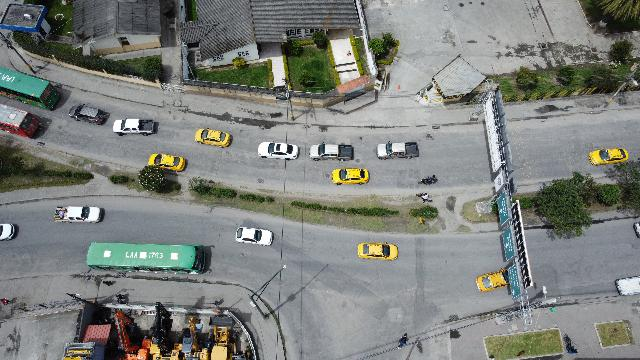Vehiculo: (1, 104, 40, 138), (68, 103, 110, 124), (54, 205, 102, 223), (476, 268, 510, 292), (310, 143, 354, 161), (376, 142, 419, 160), (235, 226, 273, 246), (148, 152, 186, 172), (257, 142, 299, 160), (589, 148, 629, 166), (358, 242, 398, 260), (195, 128, 231, 148), (112, 119, 154, 136), (332, 168, 370, 184), (614, 276, 640, 296), (1, 224, 16, 241), (632, 222, 640, 238)
